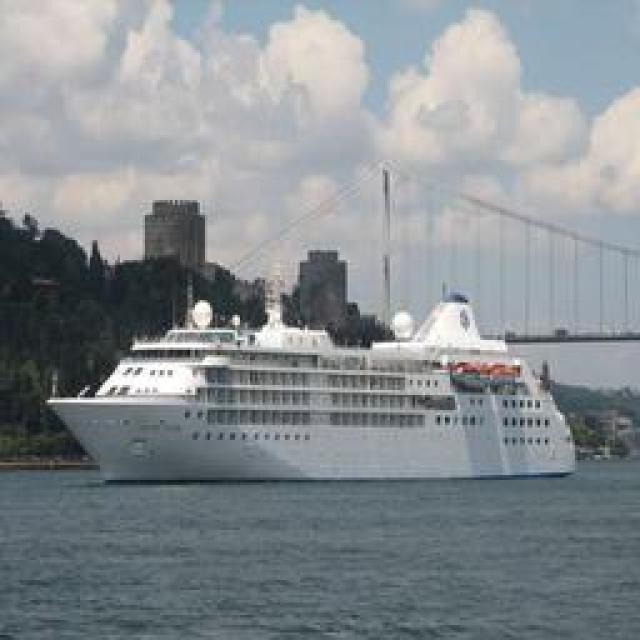ship2: (43, 256, 572, 482)
